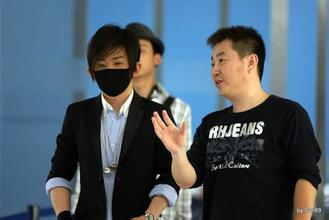NONE: (210, 55, 247, 97), (124, 40, 154, 79)
OK: (90, 52, 131, 93)
